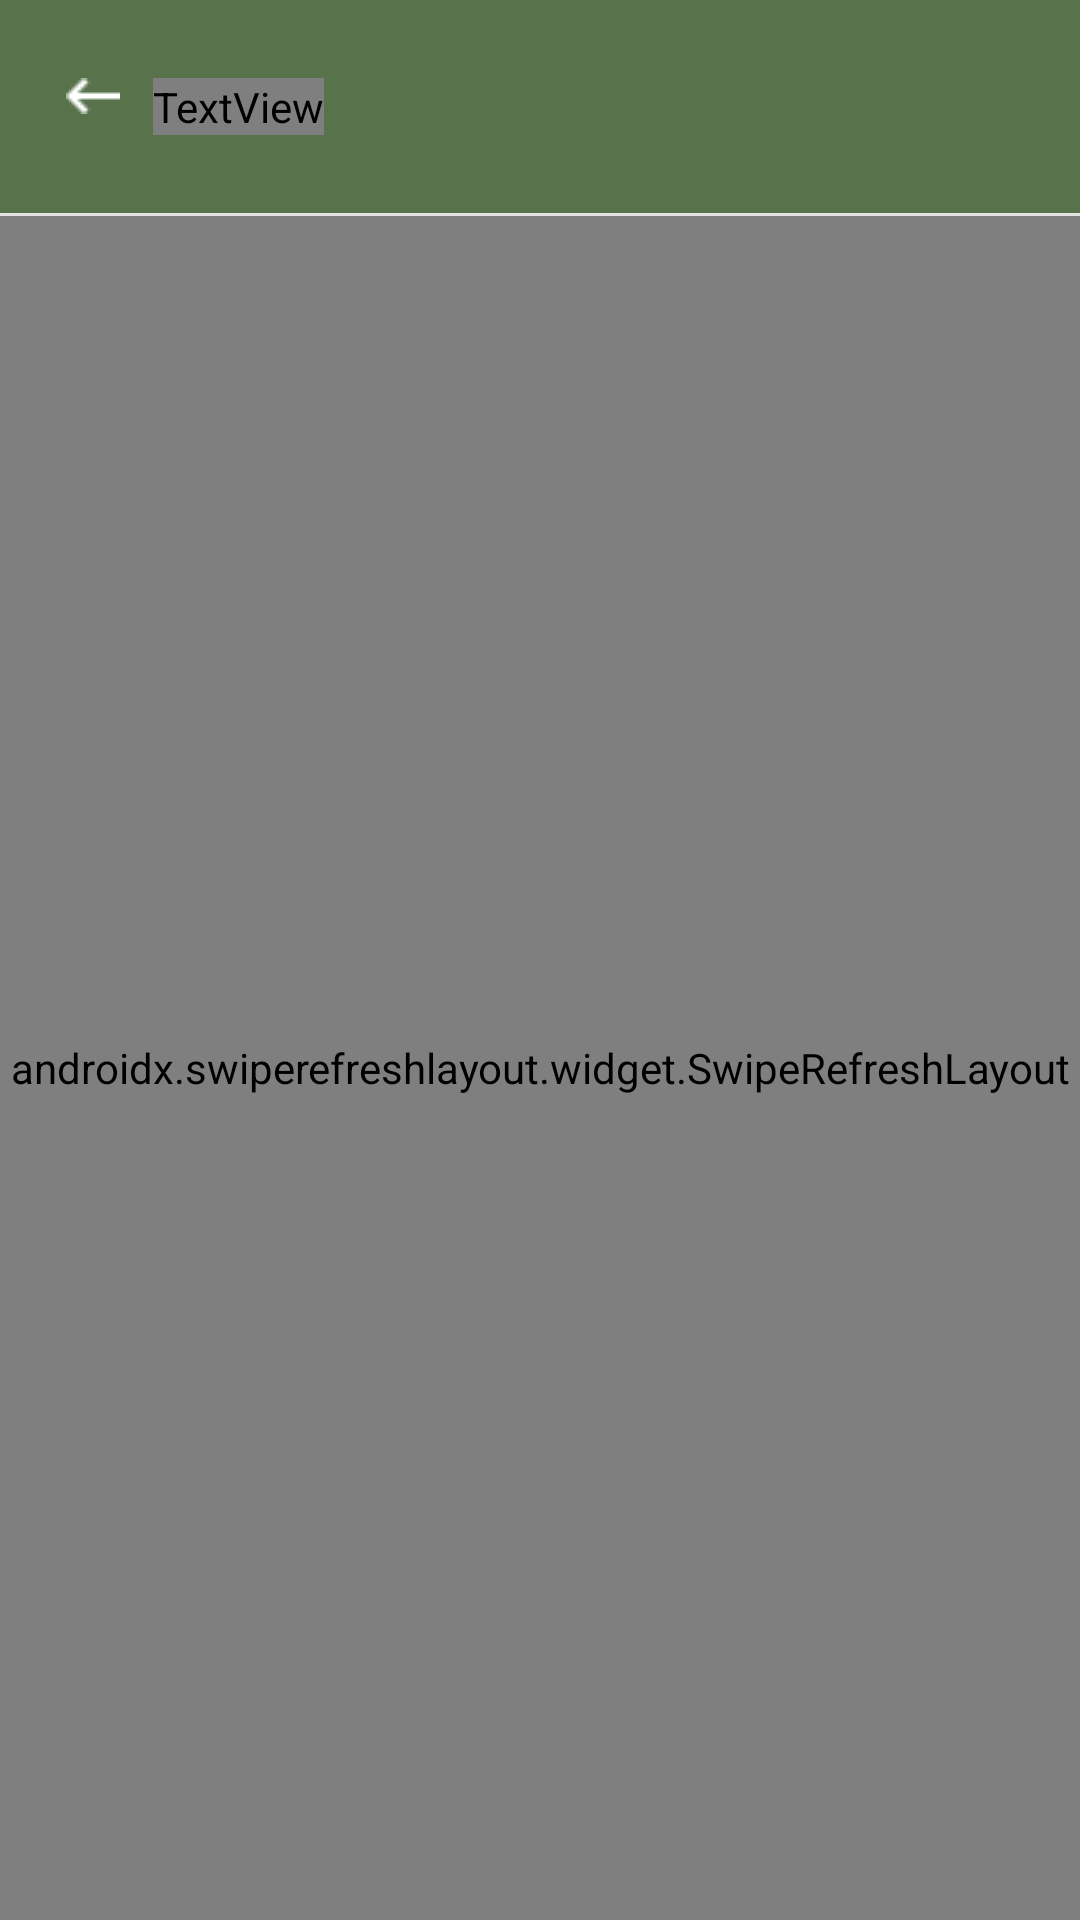

Screen size 1080px x 1920px. Icon name, then its box in pixels as (x1,y1,x2,y2):
back: (66,78,120,114)
